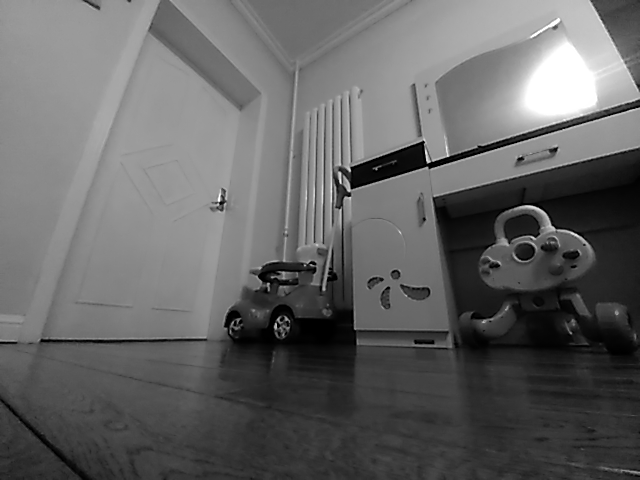toy: (457, 269, 640, 351), (224, 260, 339, 342)
